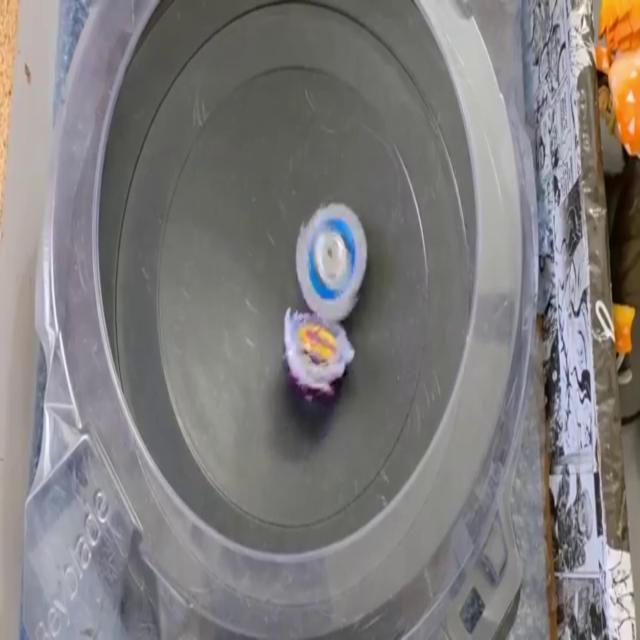Beyblade: (296, 201, 368, 320), (284, 307, 356, 405)
